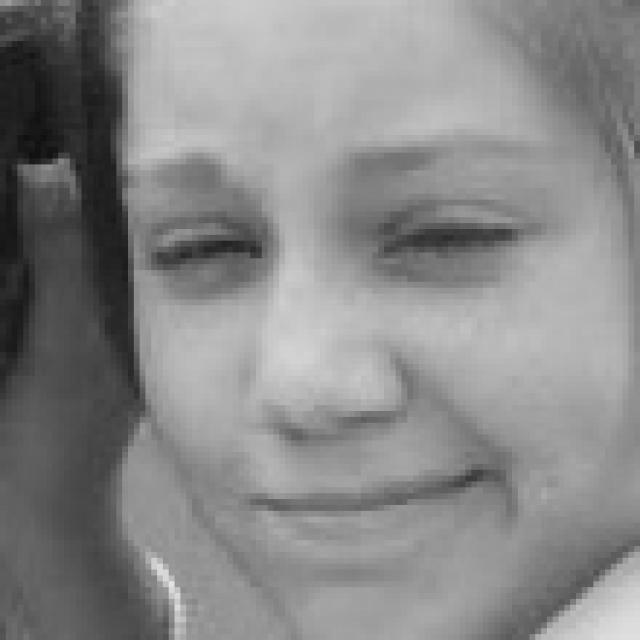real: (122, 0, 640, 640), (145, 206, 547, 306)
